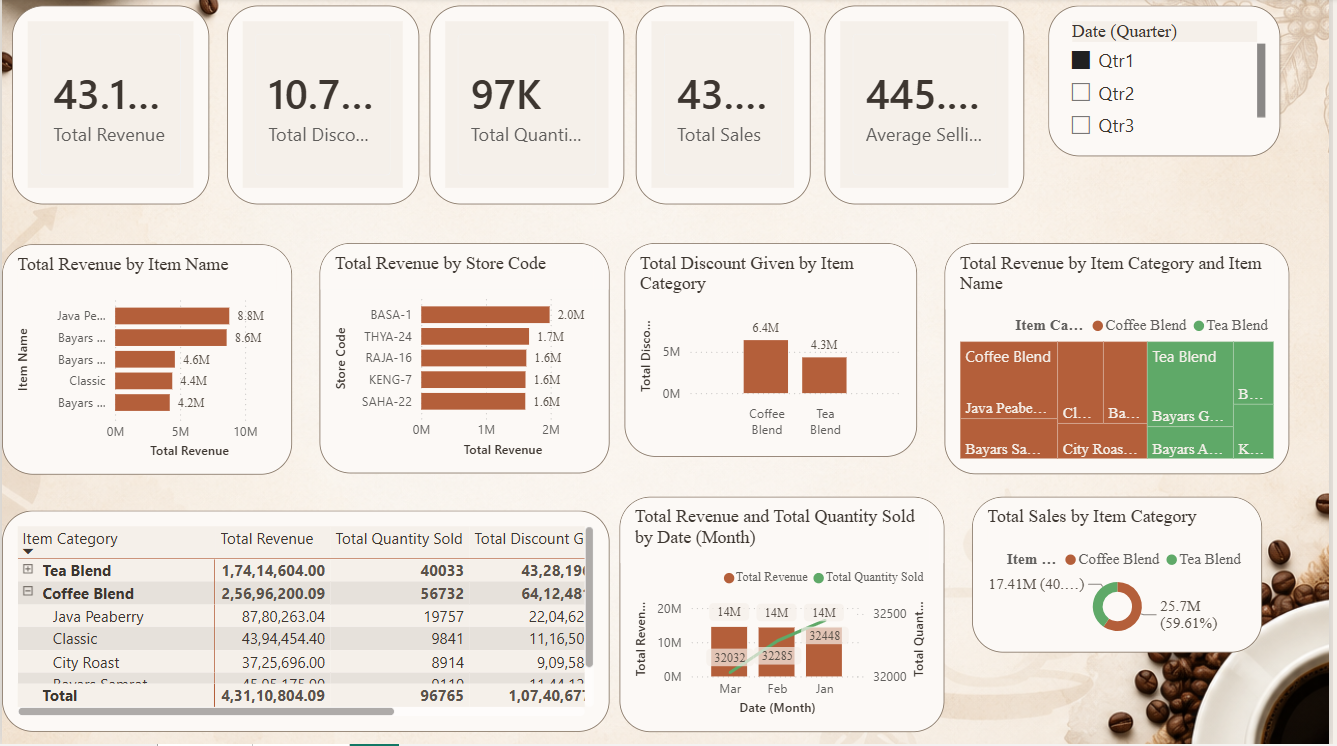

The dashboard page shown, as its layout file describes it:
{"tool":"powerbi","page":{"name":"Page 2","canvas":[1280,720],"ordinal":0},"visuals":[{"type":"cardVisual","fields":{"Data":["Measure.Total Revenue"]},"box":[9.7,7.2,190.6,191.8],"z":0},{"type":"barChart","fields":{"Category":["Coffee Sales.Item Name"],"Y":["Measure.Total Revenue"]},"box":[0,237.7,279.9,222.2],"z":1000},{"type":"barChart","fields":{"Y":["Measure.Total Revenue"],"Category":["Coffee Sales.Store Code"]},"box":[306.4,236.5,279.9,222.2],"z":2000},{"type":"treemap","fields":{"Group":["Coffee Sales.Item Category"],"Details":["Coffee Sales.Item Name"],"Values":["Measure.Total Revenue"]},"box":[909.7,236.5,332.8,223.3],"z":3000},{"type":"clusteredColumnChart","fields":{"Category":["Coffee Sales.Item Category"],"Y":["Measure.Total Discount Given"]},"box":[600.8,236.5,282.3,206.3],"z":4000},{"type":"pivotTable","fields":{"Rows":["Coffee Sales.Item Category","Coffee Sales.Item Name"],"Values":["Measure.Total Revenue","Measure.Total Quantity Sold","Measure.Total Discount Given","Measure.Average Selling Price"]},"box":[0,494.6,586.3,213.5],"z":5000},{"type":"cardVisual","fields":{"Data":["Measure.Total Discount Given"]},"box":[217.2,7.2,185.8,191.8],"z":6000},{"type":"cardVisual","fields":{"Data":["Measure.Total Quantity Sold"]},"box":[412.6,7.2,188.2,191.8],"z":7000},{"type":"cardVisual","fields":{"Data":["Measure.Total Sales"]},"box":[611.7,7.2,168.9,191.8],"z":8000},{"type":"cardVisual","fields":{"Data":["Measure.Average Selling Price"]},"box":[793.8,7.2,193,191.8],"z":9000},{"type":"donutChart","fields":{"Category":["Coffee Sales.Item Category"],"Y":["Measure.Total Sales"]},"box":[936.2,481.4,280.2,150.8],"z":10000},{"type":"slicer","fields":{"Values":["Coffee Sales.Date (Quarter)"]},"box":[1009.8,7.2,224.4,146],"z":11000},{"type":"lineStackedColumnComboChart","fields":{"Category":["Coffee Sales.Date (Month)"],"Y":["Measure.Total Revenue"],"Y2":["Measure.Total Quantity Sold"]},"box":[596,481.4,313.7,226.8],"z":12000}]}

Visuals, with their boxes in screenshot pixels (x1, y1, x2, y2), scaled from the page's 1280x720 canvas onto the 1337x746 screenshot:
cardVisual - Measure.Total Revenue: (x1=10, y1=7, x2=209, y2=206)
barChart - Coffee Sales.Item Name x Measure.Total Revenue: (x1=0, y1=246, x2=292, y2=477)
barChart - Measure.Total Revenue x Coffee Sales.Store Code: (x1=320, y1=245, x2=612, y2=475)
treemap - Coffee Sales.Item Category x Coffee Sales.Item Name: (x1=950, y1=245, x2=1298, y2=476)
clusteredColumnChart - Coffee Sales.Item Category x Measure.Total Discount Given: (x1=628, y1=245, x2=922, y2=459)
pivotTable - Coffee Sales.Item Category x Coffee Sales.Item Name: (x1=0, y1=512, x2=612, y2=734)
cardVisual - Measure.Total Discount Given: (x1=227, y1=7, x2=421, y2=206)
cardVisual - Measure.Total Quantity Sold: (x1=431, y1=7, x2=628, y2=206)
cardVisual - Measure.Total Sales: (x1=639, y1=7, x2=815, y2=206)
cardVisual - Measure.Average Selling Price: (x1=829, y1=7, x2=1031, y2=206)
donutChart - Coffee Sales.Item Category x Measure.Total Sales: (x1=978, y1=499, x2=1271, y2=655)
slicer - Coffee Sales.Date (Quarter): (x1=1055, y1=7, x2=1289, y2=159)
lineStackedColumnComboChart - Coffee Sales.Date (Month) x Measure.Total Revenue: (x1=623, y1=499, x2=950, y2=734)
